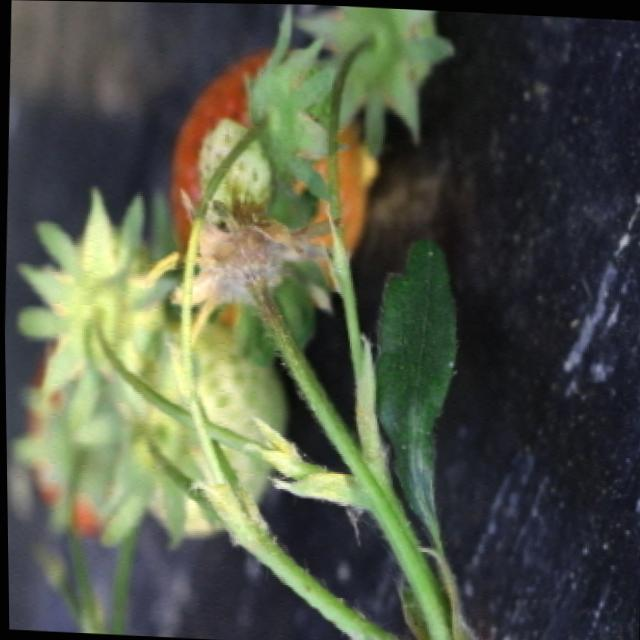Gray Mold: (136, 187, 341, 346)
